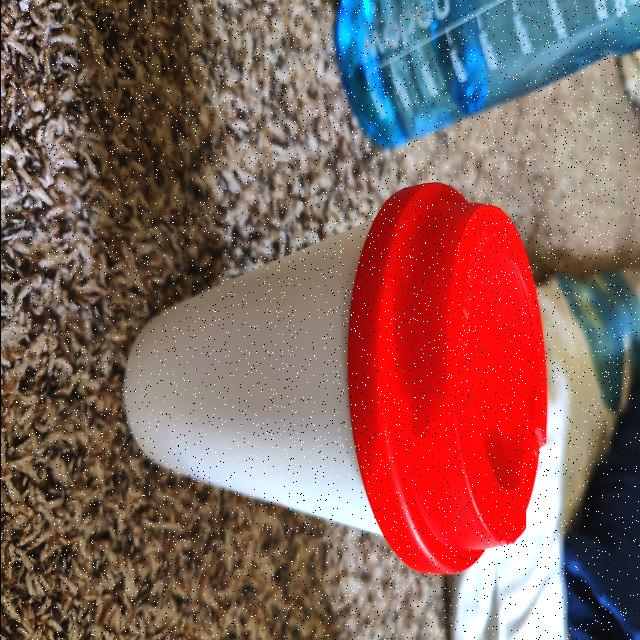mug: (121, 172, 544, 570)
